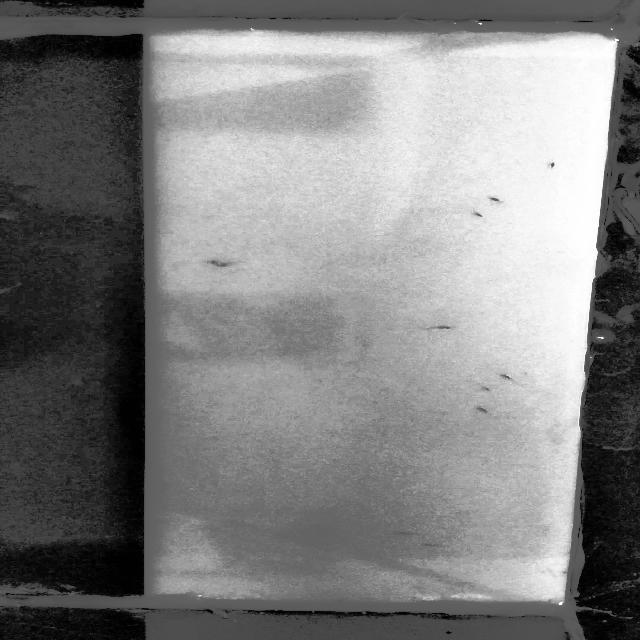shrimp: (416, 319, 458, 331), (471, 206, 498, 221), (495, 373, 523, 387), (210, 261, 250, 270), (481, 192, 508, 204), (390, 530, 428, 538), (476, 404, 500, 416), (477, 383, 502, 394), (333, 594, 351, 607), (418, 540, 443, 549), (543, 162, 568, 171), (204, 259, 236, 265)
